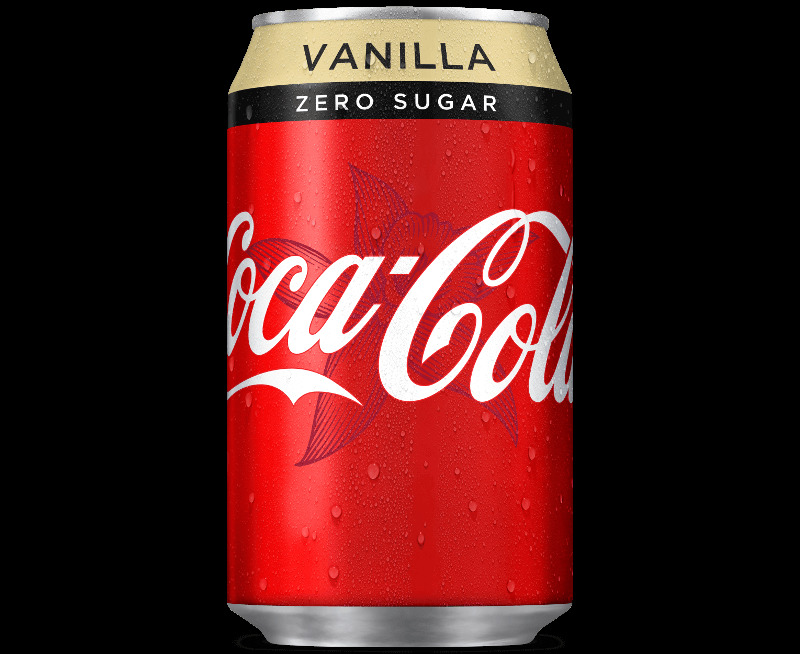coke: (232, 12, 572, 650)
